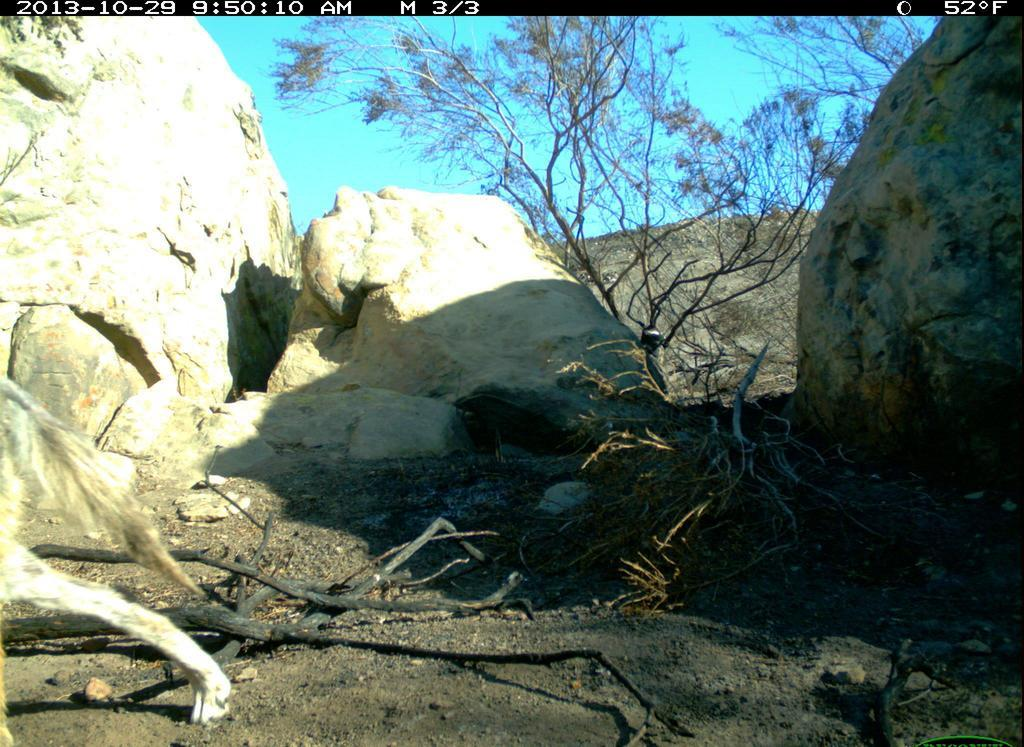coyote: (4, 376, 240, 747)
